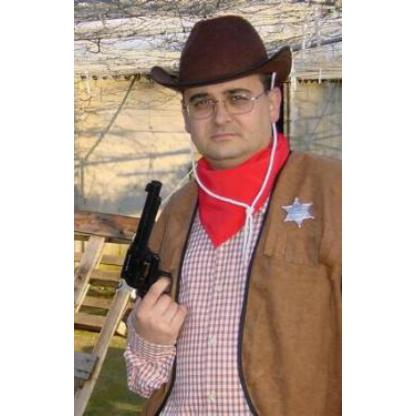gun: (118, 174, 182, 306)
